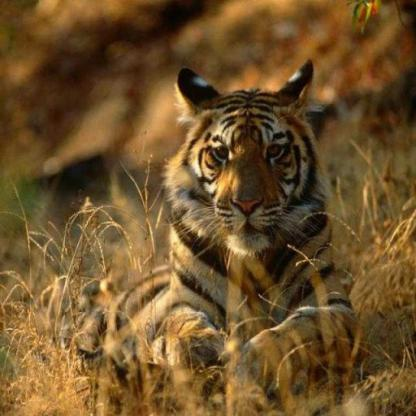Tiger: (108, 48, 372, 394)
